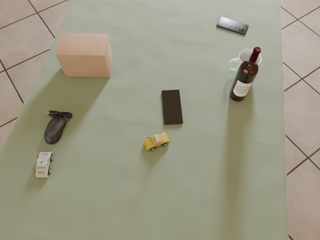bottle: (230, 47, 261, 101)
box: (56, 33, 113, 78)
cup: (228, 49, 261, 73)
mouse: (44, 111, 72, 144)
phone: (162, 90, 183, 124), (217, 17, 249, 35)
toy_car: (35, 152, 53, 178), (144, 133, 170, 151)
